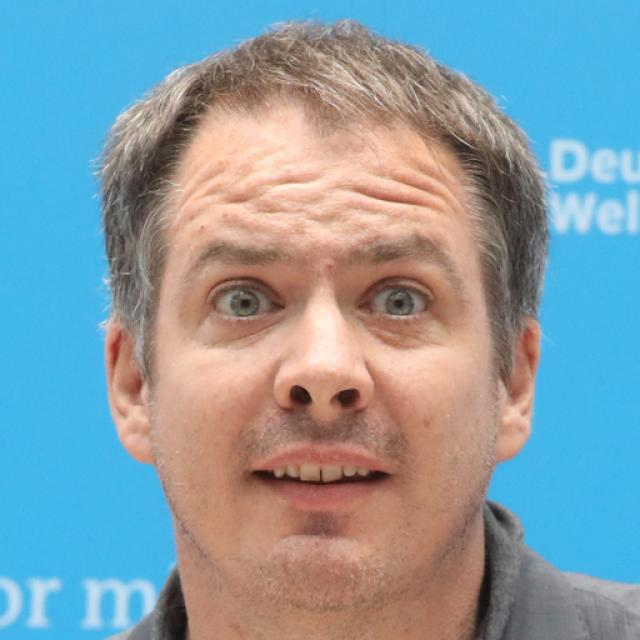Acne: (320, 255, 337, 277)
Wrinkle: (222, 170, 319, 210), (382, 174, 459, 212), (354, 186, 449, 213)
